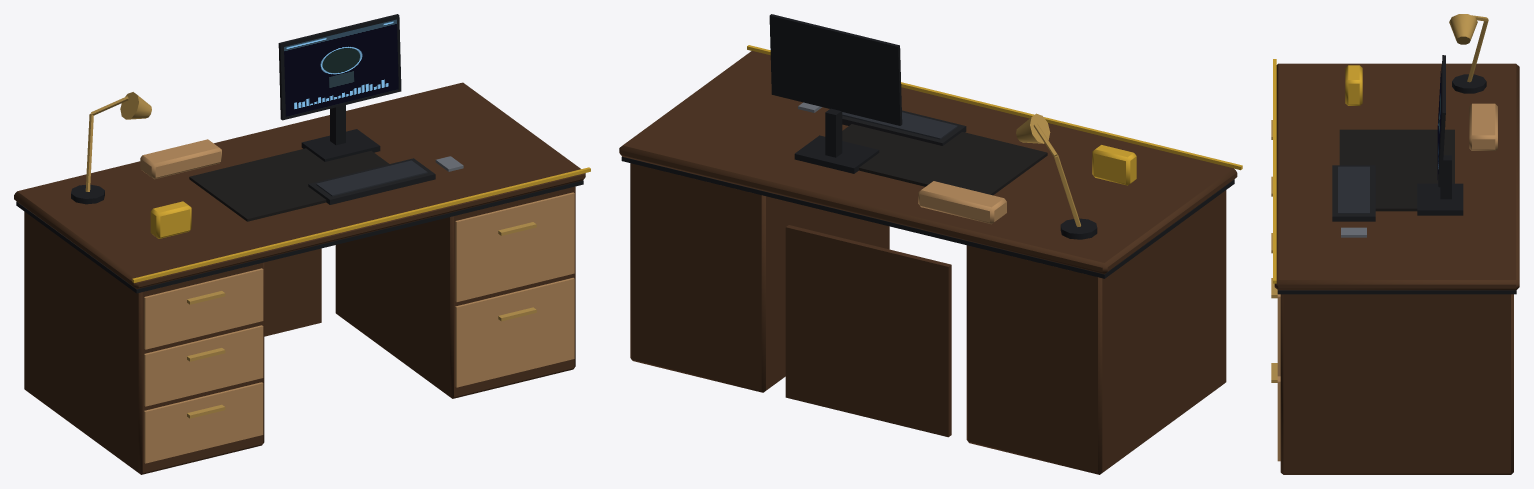
File: desk_officer_desk.glb
3 renders of one model, left to right at view 1: azimuth 30°, elevation 25°; view 2: azimuth 150°, elevation 25°; view 3: azimuth 270°, elevation 25°, orthographic. The views are drawn at different scales.
Parts seen in each view (by area): view 1: desk_officer_desk; view 2: desk_officer_desk; view 3: desk_officer_desk.
Boxes of the visible parts, bbox=[...] form: desk_officer_desk: bbox=[14, 14, 590, 474]; desk_officer_desk: bbox=[619, 14, 1242, 474]; desk_officer_desk: bbox=[1271, 14, 1519, 474].
Size of the model in its own units: 1.82 by 1.21 by 0.862.
10 materials, 1 textured.
